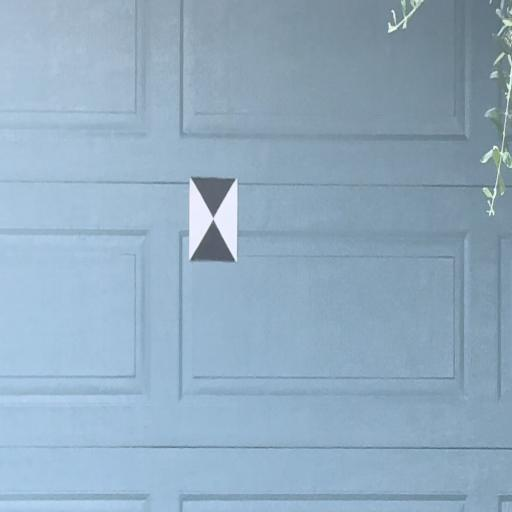target: (190, 177, 236, 262)
